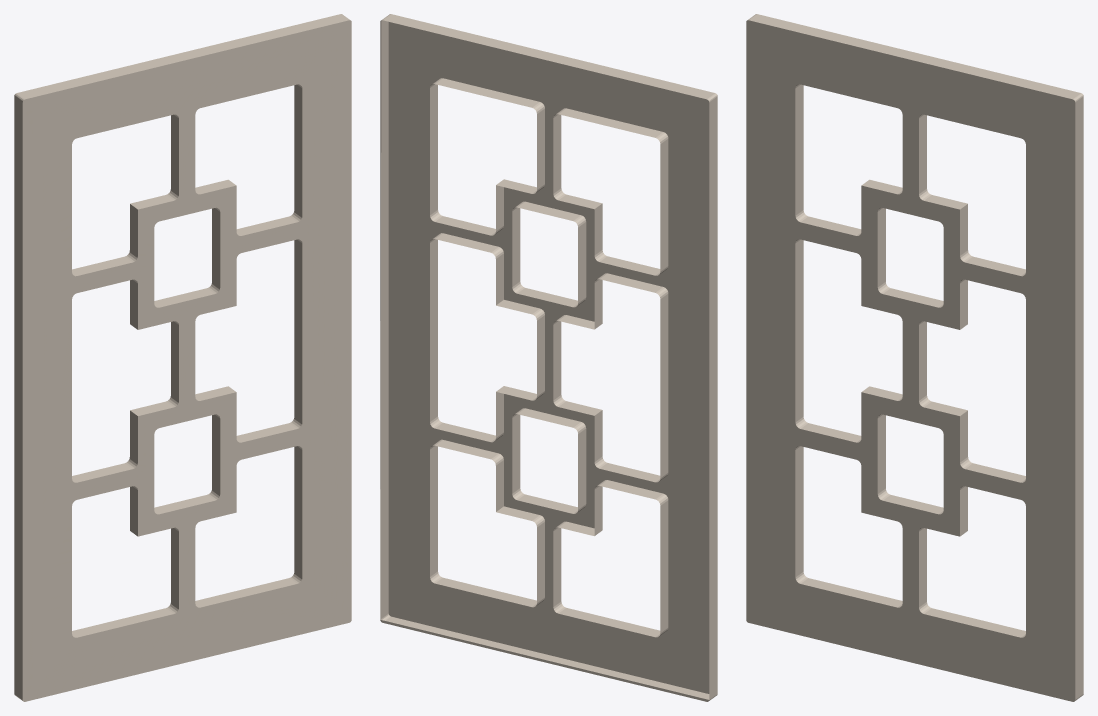
Rendered from nrd-cam-104.glb.
The picture shows the model from 3 angles, left to right: view 1: azimuth 30°, elevation 25°; view 2: azimuth 150°, elevation 25°; view 3: azimuth 330°, elevation 25°; orthographic projection.
Parts seen in each view (by area): view 1: NRD CAM 104; view 2: NRD CAM 104; view 3: NRD CAM 104.
Boxes of the visible parts, x1=… form: NRD CAM 104: x1=14, y1=14, x2=351, y2=701; NRD CAM 104: x1=380, y1=14, x2=717, y2=701; NRD CAM 104: x1=746, y1=14, x2=1083, y2=701.
Bounding box in the file's own units: 0.3999 × 0.6999 × 0.018.
